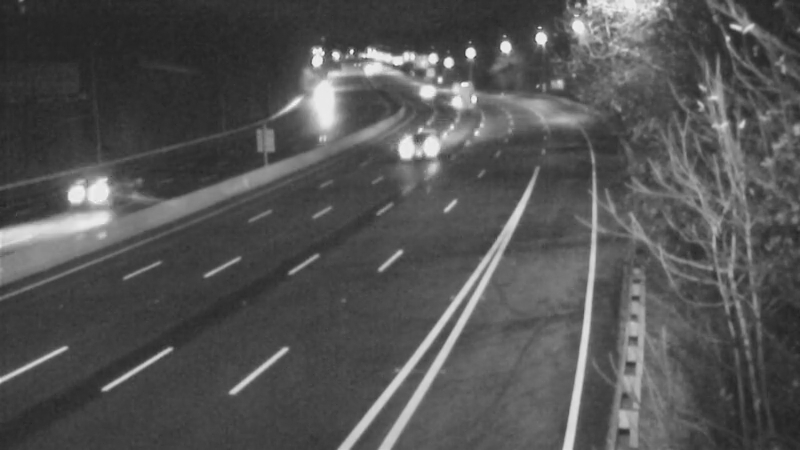vehicle: (49, 152, 129, 232), (402, 62, 452, 112), (431, 64, 481, 114), (389, 123, 439, 173), (296, 76, 346, 126)
